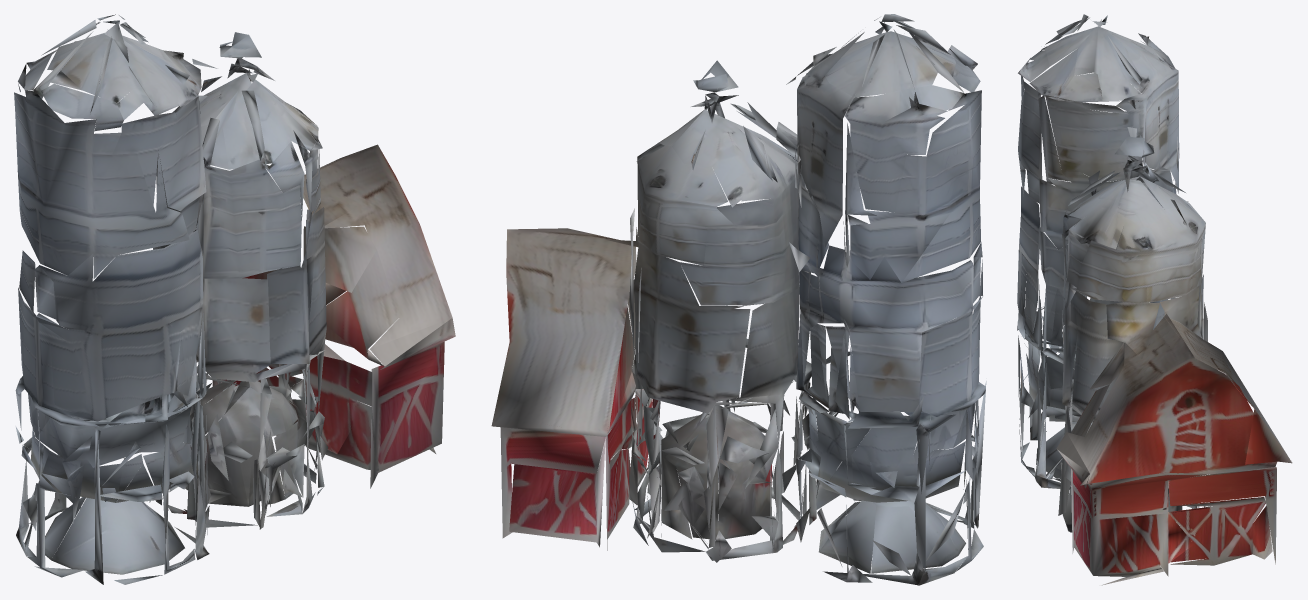
File: granary_lod1.glb
The picture shows the model from 3 angles, left to right: view 1: azimuth 30°, elevation 25°; view 2: azimuth 150°, elevation 25°; view 3: azimuth 270°, elevation 25°; orthographic projection. The views are drawn at different scales.
Parts seen in each view (by area): view 1: body; view 2: body; view 3: body.
Part boxes in pixels (x1=…): body: x1=14, y1=14, x2=455, y2=584; body: x1=491, y1=14, x2=986, y2=585; body: x1=1017, y1=14, x2=1292, y2=585.
Size of the model in its own units: 11.75 by 14.1 by 7.88.
Materials: 1 (1 with a texture image).
